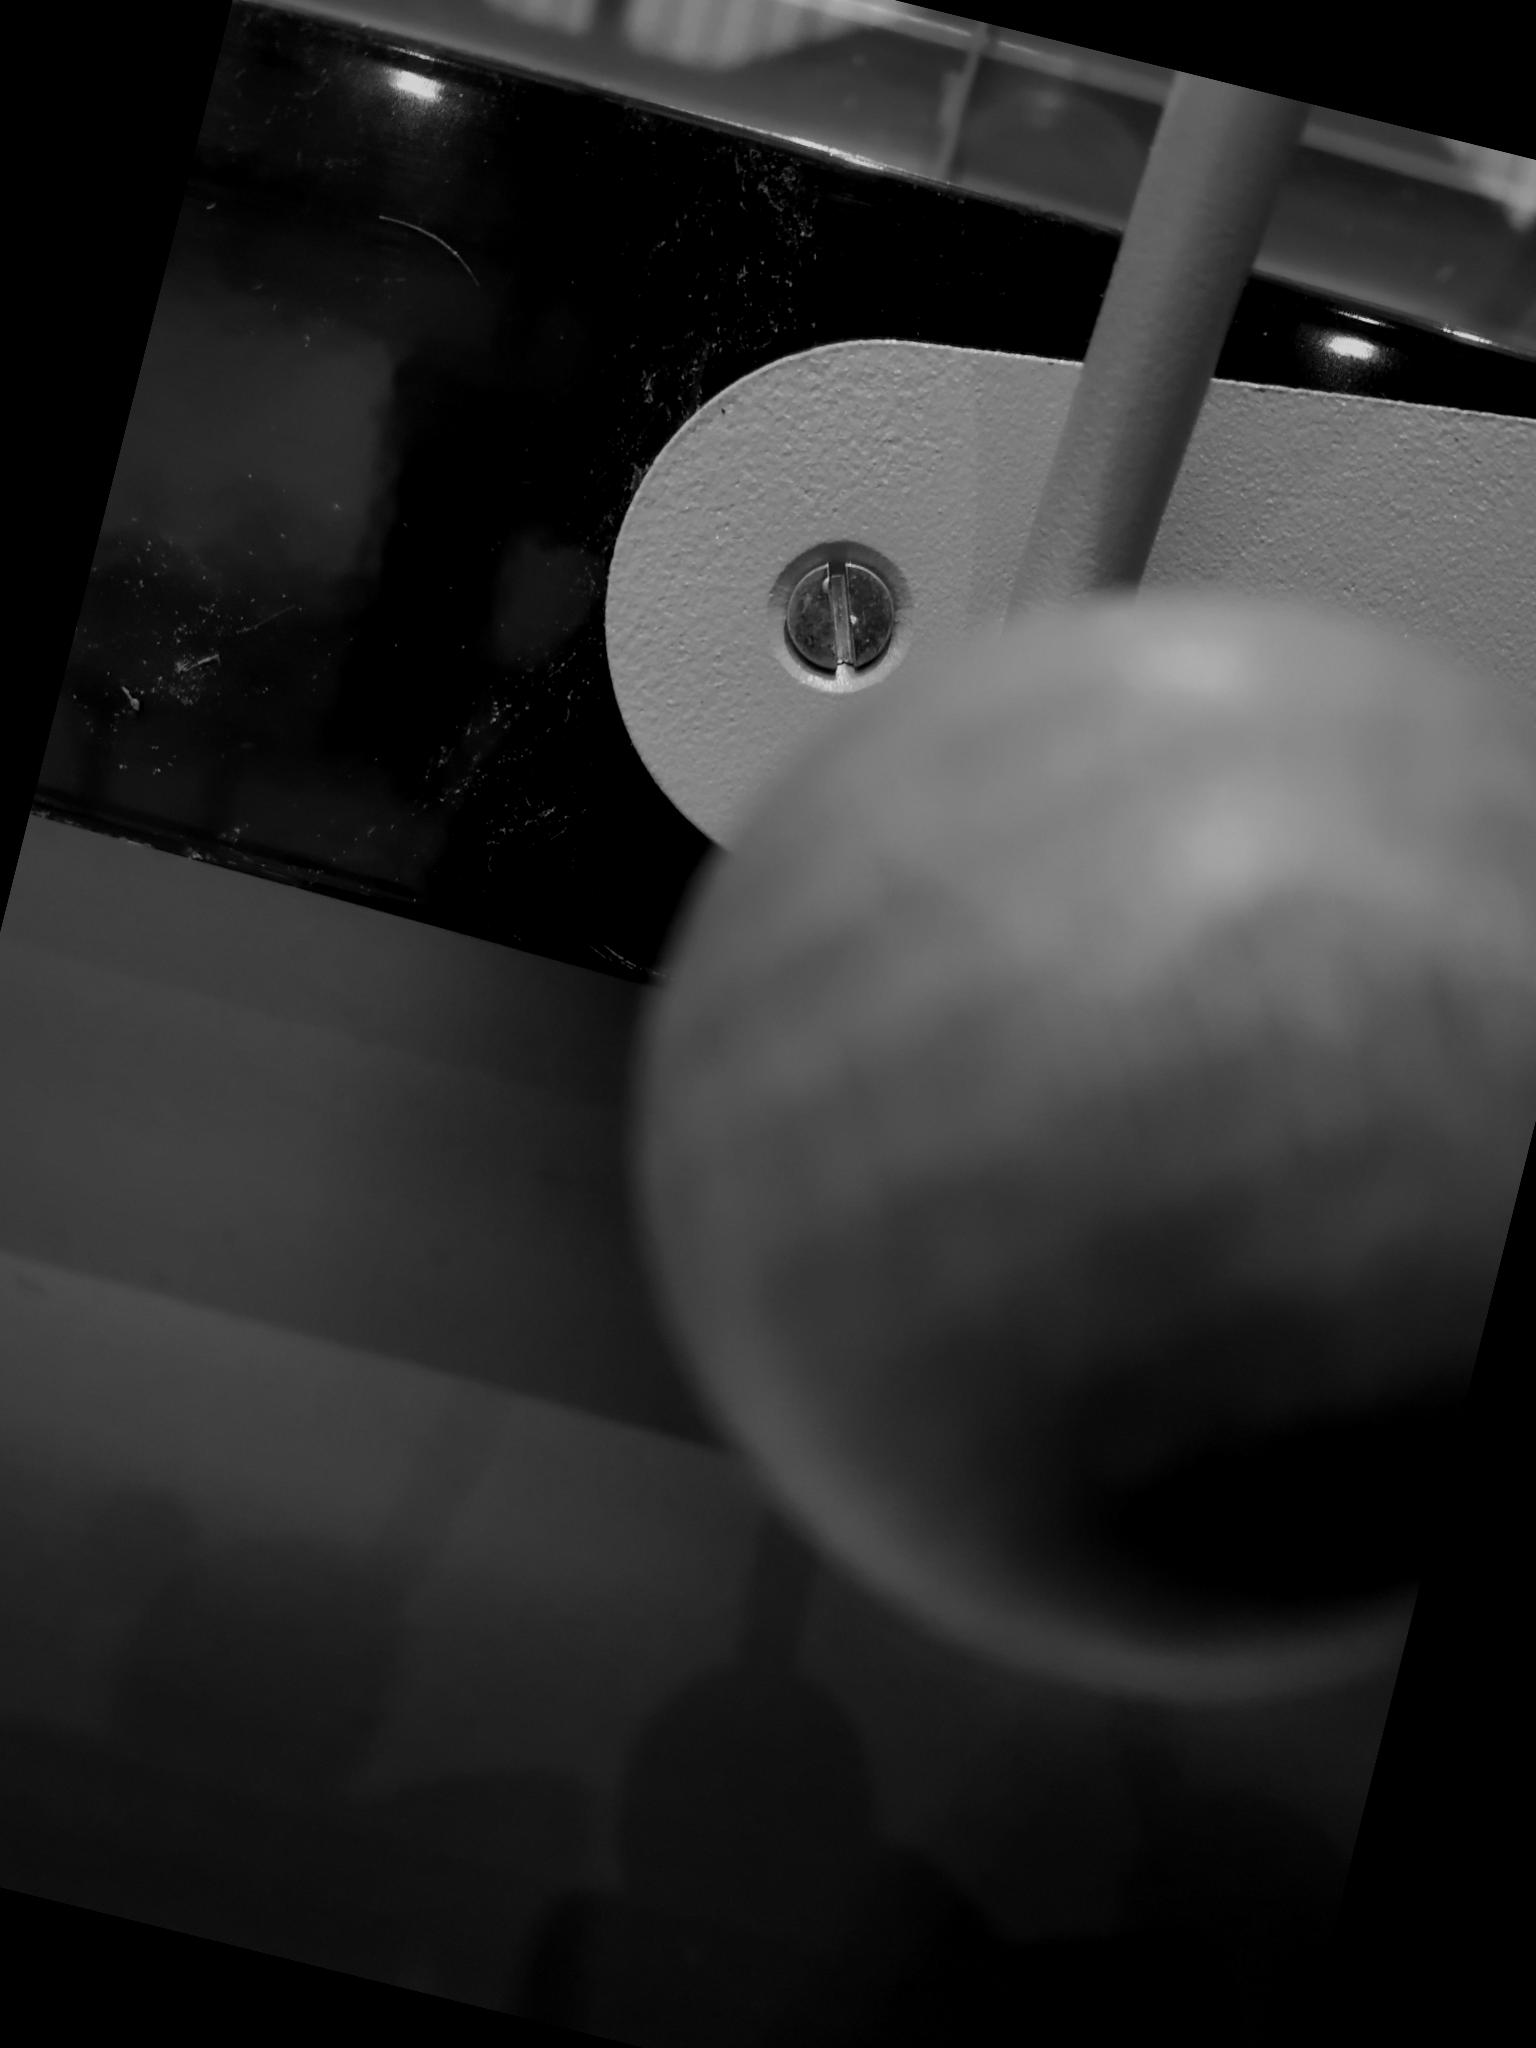slotted: (771, 543, 916, 689)
